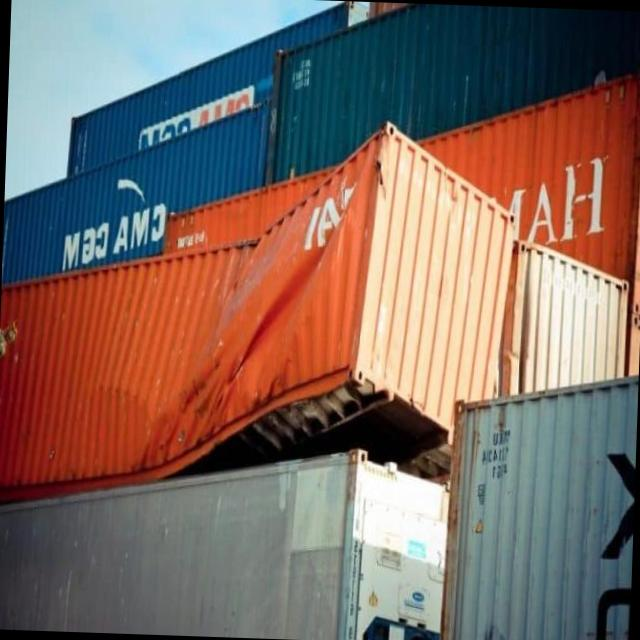Deframe_or_Dent: (144, 122, 413, 482)
